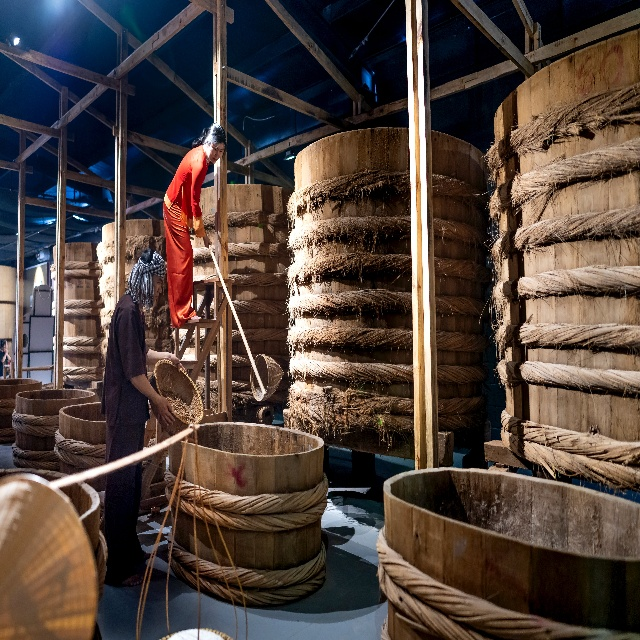Sin_guantes: (156, 395, 175, 426), (169, 353, 187, 373), (203, 234, 212, 249)
